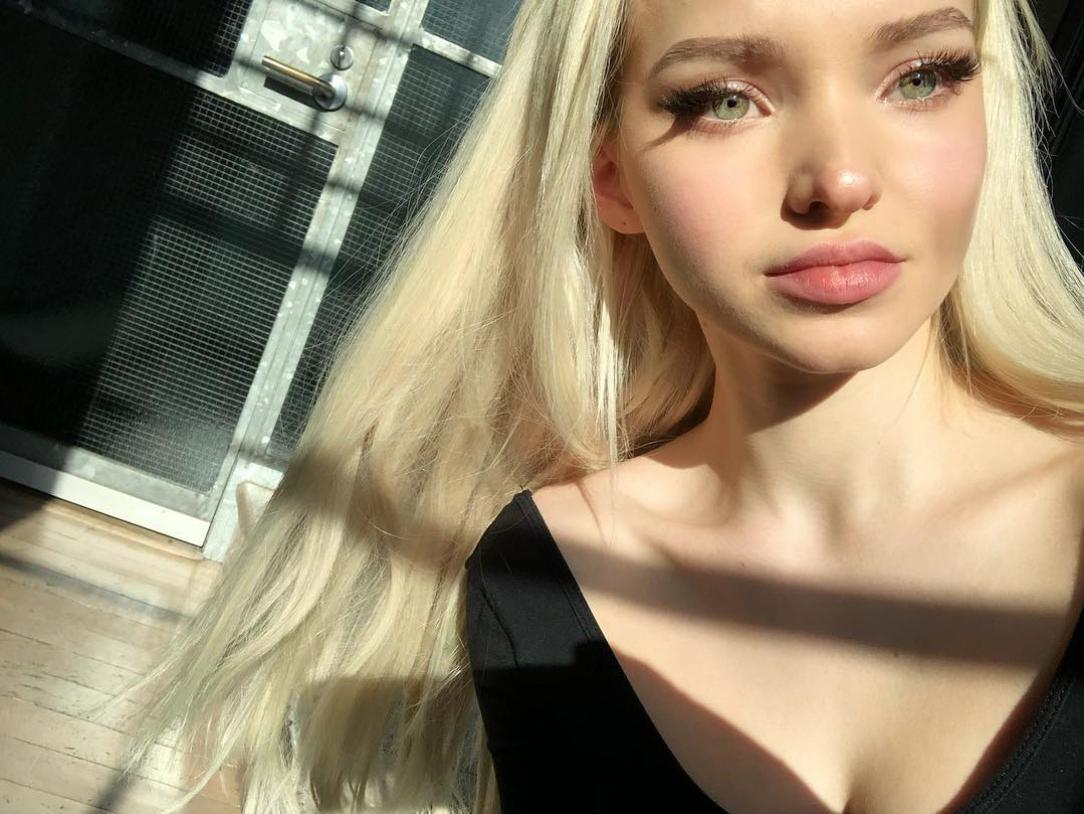face: (618, 1, 989, 376)
